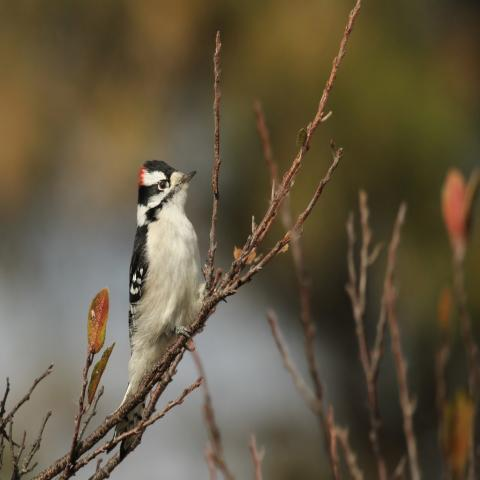bird: (109, 156, 208, 454)
